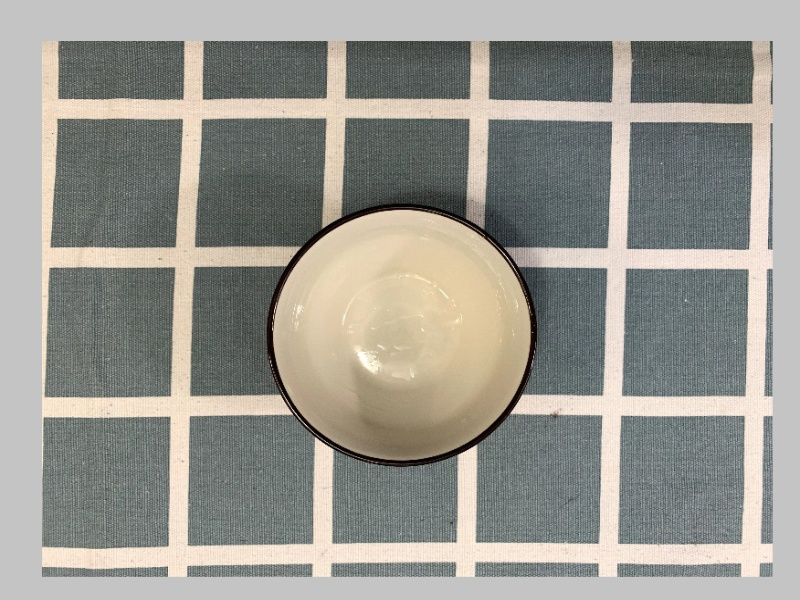bowl_small: (259, 195, 546, 472)
